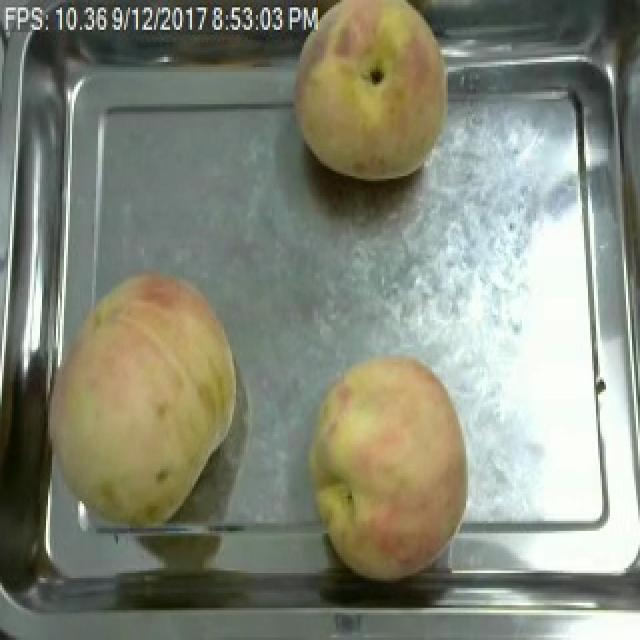Fruit: (34, 265, 248, 531), (298, 348, 480, 590), (282, 0, 458, 191)
